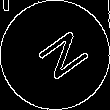N_SW: (23, 24, 87, 86)
